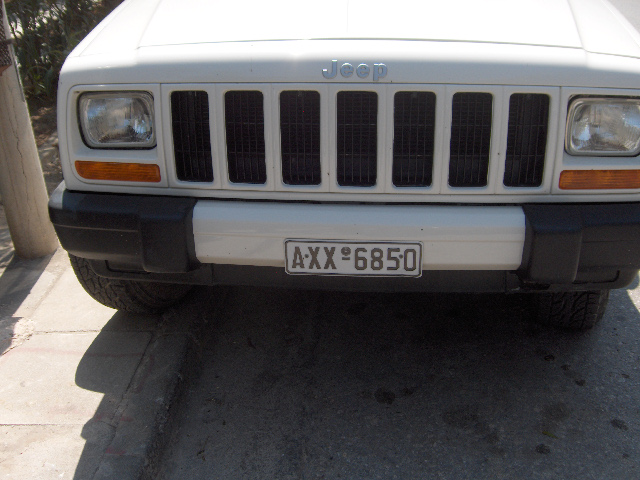licenseplate: (284, 238, 421, 278)
